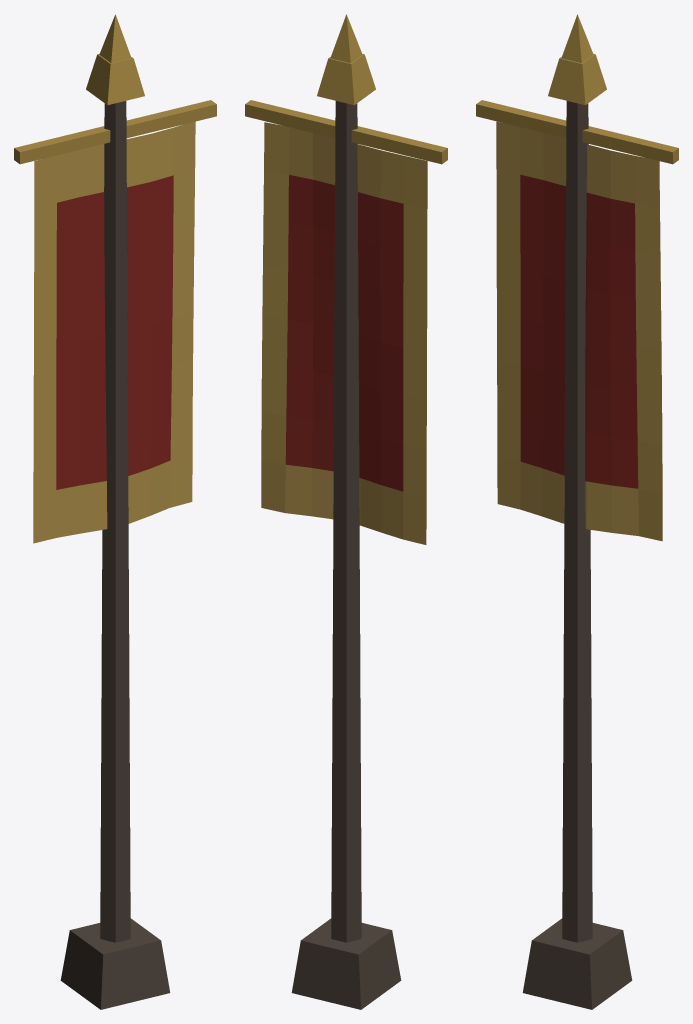
The model's file is wall_banner.glb.
3 renders of one model, left to right at view 1: azimuth 30°, elevation 25°; view 2: azimuth 150°, elevation 25°; view 3: azimuth 330°, elevation 25°, orthographic.
Parts seen in each view (by area): view 1: wall_banner; view 2: wall_banner; view 3: wall_banner.
Boxes of the visible parts, x1,y1,x2,y2 form: wall_banner: (14,14,216,1009); wall_banner: (245,14,447,1009); wall_banner: (476,14,678,1009).
Size of the model in its own units: 1.36 by 6.42 by 0.48.
